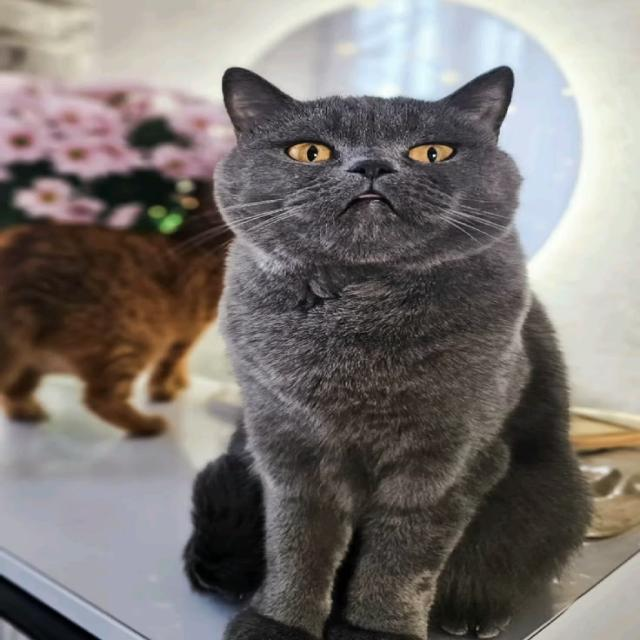british shorthair: (185, 67, 590, 639)
